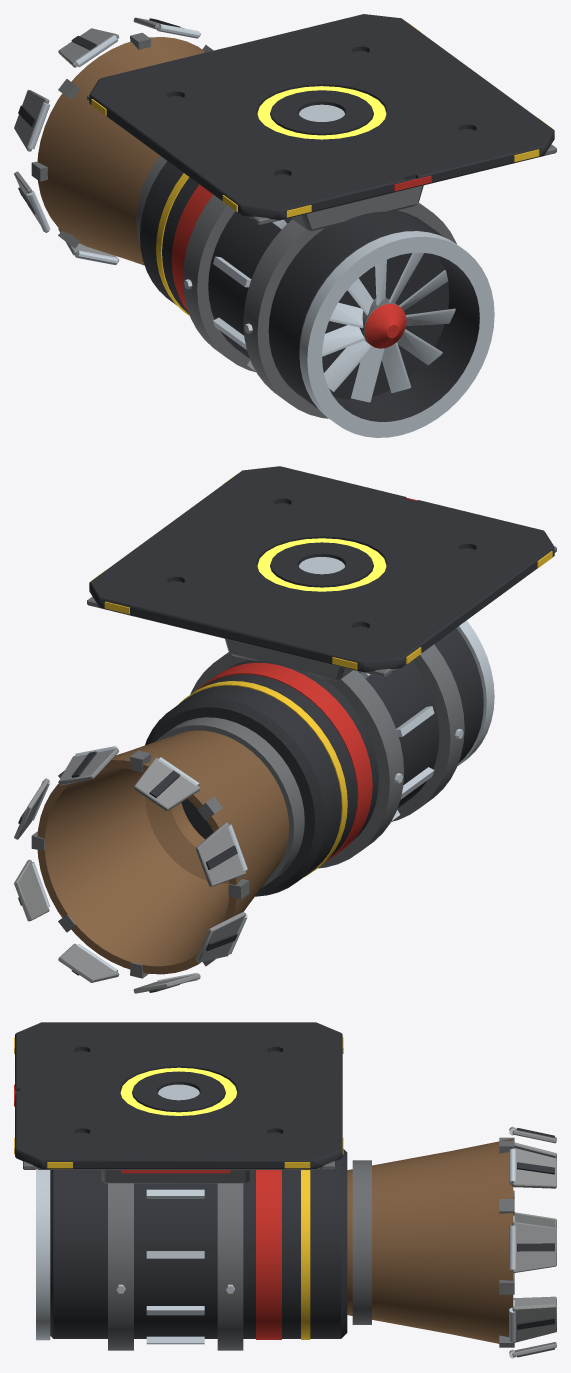
The model's file is R4M_Booster.glb.
The picture shows the model from 3 angles, top to bottom: view 1: azimuth 30°, elevation 25°; view 2: azimuth 150°, elevation 25°; view 3: azimuth 270°, elevation 25°; orthographic projection. The views are drawn at different scales.
Visible parts, largest first — view 1: R4M_Booster_Housing, R4M_Booster_Turbine, R4M_Booster_Petal_7, R4M_Booster_Petal_8, R4M_Booster_Petal_6, R4M_Booster_Petal_1, R4M_Booster_Petal_5; view 2: R4M_Booster_Housing, R4M_Booster_Petal_7, R4M_Booster_Petal_8, R4M_Booster_Petal_6, R4M_Booster_Petal_3, R4M_Booster_Petal_4, R4M_Booster_Petal_1, R4M_Booster_Petal_2; view 3: R4M_Booster_Housing, R4M_Booster_Petal_2, R4M_Booster_Petal_1, R4M_Booster_Petal_3, R4M_Booster_Petal_6.
Boxes of the visible parts, x1,y1,x2,y2 form: R4M_Booster_Housing: (31,14,556,437); R4M_Booster_Turbine: (322,252,455,402); R4M_Booster_Petal_7: (14,90,49,151); R4M_Booster_Petal_8: (58,28,119,67); R4M_Booster_Petal_6: (14,171,50,232); R4M_Booster_Petal_1: (133,17,200,38); R4M_Booster_Petal_5: (58,228,119,264); R4M_Booster_Housing: (31,466,556,978); R4M_Booster_Petal_7: (195,822,247,886); R4M_Booster_Petal_8: (133,757,200,811); R4M_Booster_Petal_6: (195,911,247,962); R4M_Booster_Petal_3: (14,859,50,921); R4M_Booster_Petal_4: (58,943,119,982); R4M_Booster_Petal_1: (58,746,118,785); R4M_Booster_Petal_2: (14,778,50,839); R4M_Booster_Housing: (14,1022,514,1350); R4M_Booster_Petal_2: (509,1222,556,1272); R4M_Booster_Petal_1: (509,1148,556,1188); R4M_Booster_Petal_3: (509,1304,556,1342); R4M_Booster_Petal_6: (513,1212,556,1228).
Size of the model in its own units: 0.5126 by 0.4383 by 0.8439.
